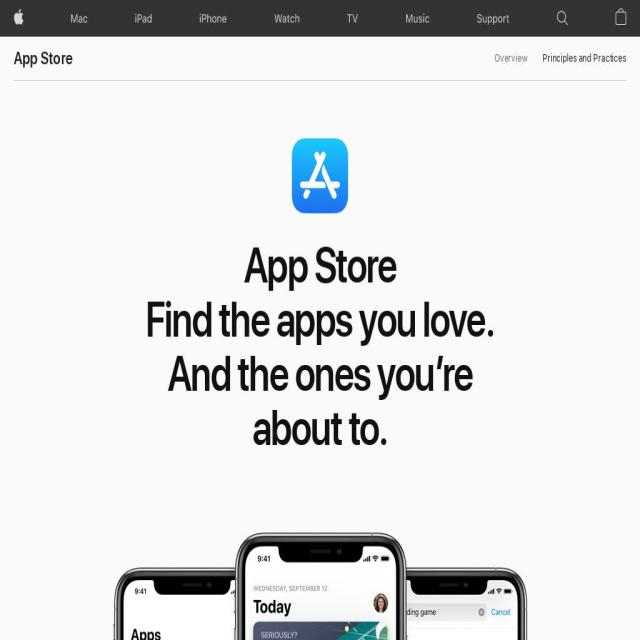button: (470, 0, 516, 37), (542, 49, 626, 68), (193, 0, 234, 37), (268, 0, 306, 37), (400, 0, 436, 37), (129, 0, 159, 37), (65, 0, 94, 37), (341, 0, 365, 37), (608, 0, 632, 37), (8, 0, 30, 37)
heading: (167, 344, 472, 457), (145, 290, 494, 348), (243, 236, 396, 294)
image: (112, 530, 528, 640), (292, 138, 348, 214), (550, 0, 574, 37)
link: (14, 48, 73, 68)
text: (493, 49, 528, 68)
